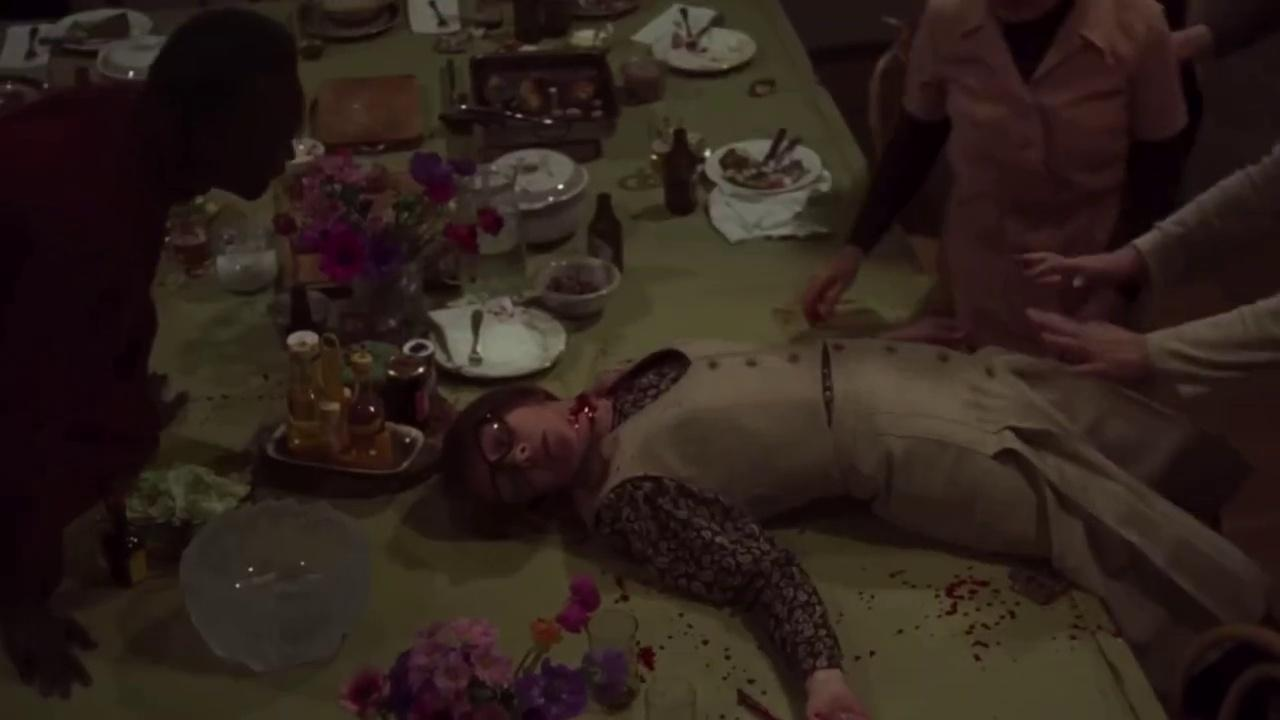Fire: (829, 570, 1030, 666), (634, 611, 783, 720), (1068, 599, 1125, 640), (200, 376, 283, 404), (570, 391, 602, 443), (603, 572, 633, 606)
